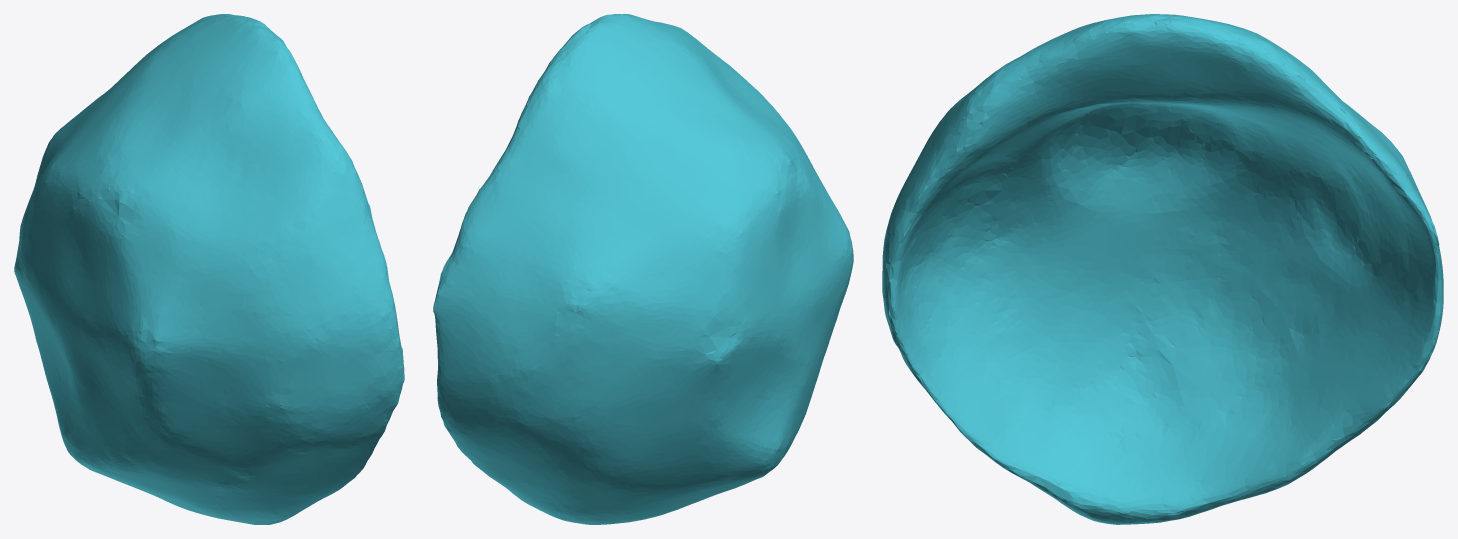
3 views of the same model, side by side, from view 1: azimuth 30°, elevation 25°; view 2: azimuth 150°, elevation 25°; view 3: azimuth 270°, elevation 25° (orthographic). The views are drawn at different scales.
Visible parts, largest first — view 1: Renderer Node; view 2: Renderer Node; view 3: Renderer Node.
Boxes of the visible parts, bbox=[...] form: Renderer Node: bbox=[14, 14, 404, 524]; Renderer Node: bbox=[433, 14, 853, 524]; Renderer Node: bbox=[882, 14, 1443, 524].
Bounding box in the file's own units: 0.3359 × 0.6718 × 0.6645.
Materials: 1 (1 with a texture image).
